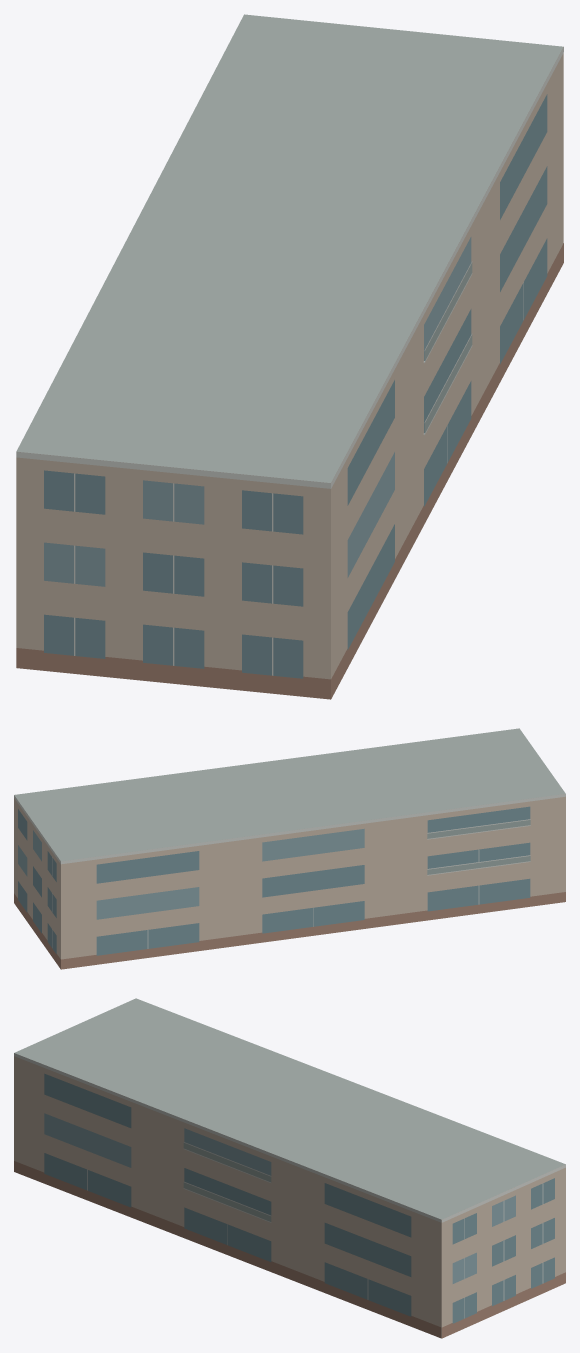
The model's file is survey-upis-32968958.glb.
The picture shows the model from 3 angles, top to bottom: view 1: azimuth 30°, elevation 25°; view 2: azimuth 150°, elevation 25°; view 3: azimuth 270°, elevation 25°; orthographic projection. The views are drawn at different scales.
Visible parts, largest first — view 1: survey-upis-32968958.tmp; view 2: survey-upis-32968958.tmp; view 3: survey-upis-32968958.tmp.
Part boxes in pixels (box(x1,y1,x2,y2)): survey-upis-32968958.tmp: box(16, 14, 563, 699); survey-upis-32968958.tmp: box(14, 728, 565, 969); survey-upis-32968958.tmp: box(14, 998, 565, 1338).
Bounding box in the file's own units: 36.55 × 9.15 × 38.49.
